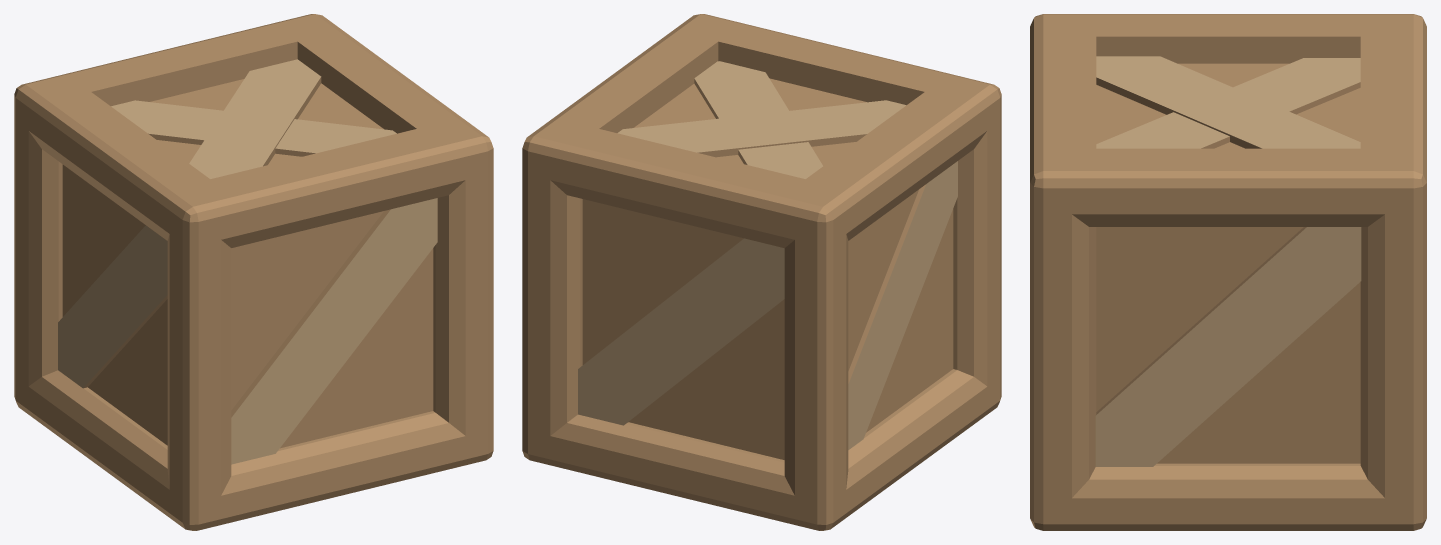
Rendered from Mesh_Caisse_01.fbx.
3 renders of one model, left to right at view 1: azimuth 30°, elevation 25°; view 2: azimuth 150°, elevation 25°; view 3: azimuth 270°, elevation 25°, orthographic. The views are drawn at different scales.
Parts seen in each view (by area): view 1: Mesh_Caisse_01; view 2: Mesh_Caisse_01; view 3: Mesh_Caisse_01.
Boxes of the visible parts, left/top/right/bottom form: Mesh_Caisse_01: left=14, top=14, right=493, bottom=530; Mesh_Caisse_01: left=522, top=14, right=1001, bottom=530; Mesh_Caisse_01: left=1030, top=14, right=1426, bottom=530.
Size of the model in its own units: 50 by 50 by 50.
